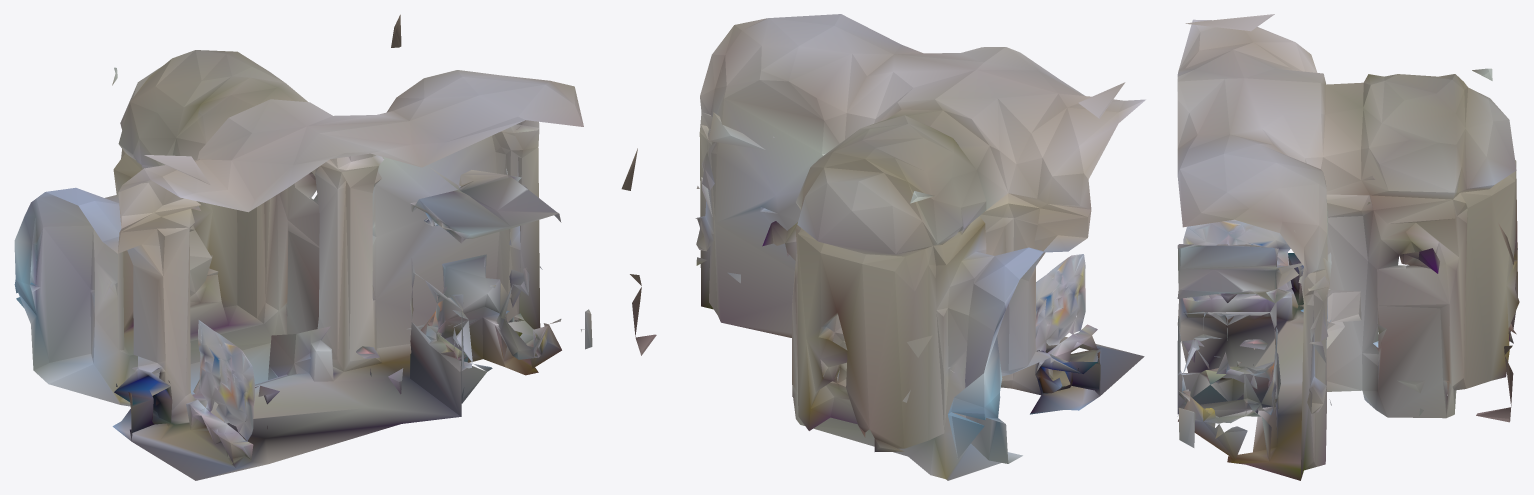
3 views of the same model, side by side, from view 1: azimuth 30°, elevation 25°; view 2: azimuth 150°, elevation 25°; view 3: azimuth 270°, elevation 25° (orthographic). The views are drawn at different scales.
Size of the model in its own units: 10.04 by 7.77 by 7.51.
